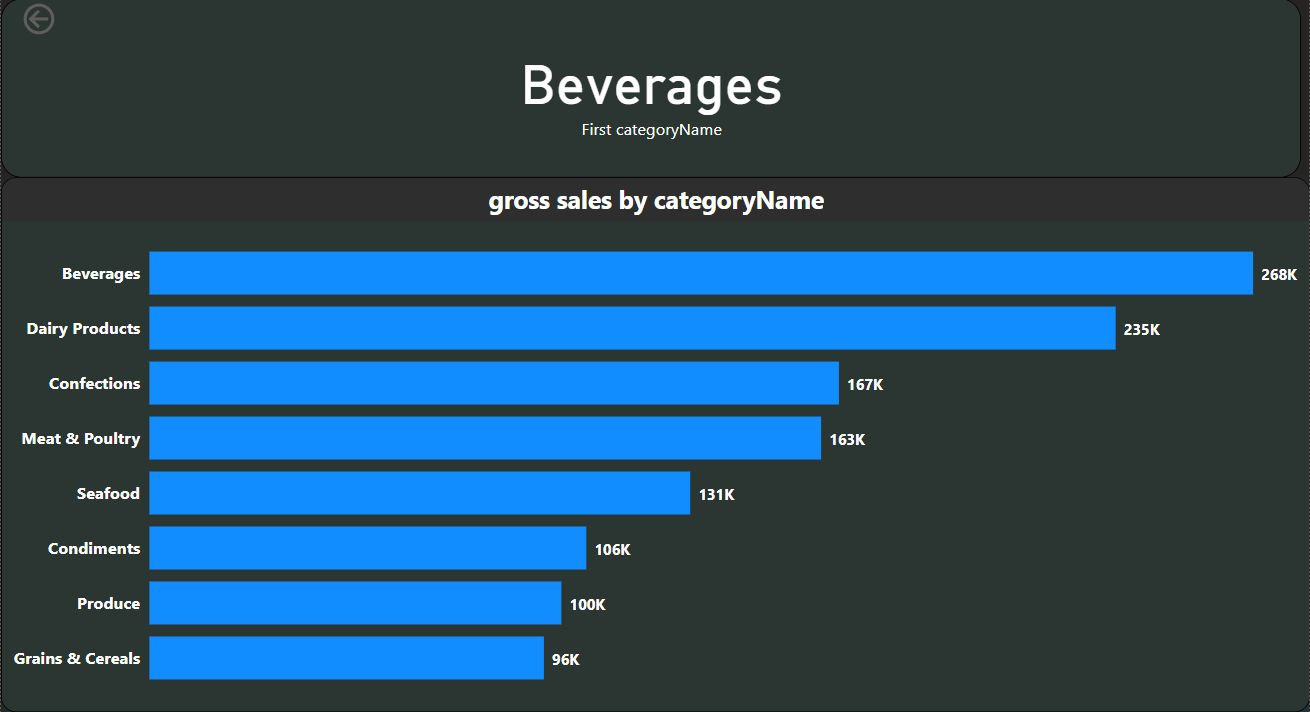

The page's visual inventory and layout, read from the dashboard file:
{"tool":"powerbi","page":{"name":"category SALES","canvas":[1280,720],"ordinal":2},"visuals":[{"type":"clusteredBarChart","fields":{"Category":["products.categoryName"],"Y":["DAX MEASURES.gross sales"]},"box":[0,187,1279.9,523.2],"z":0},{"type":"card","title":"aethateh","fields":{"Values":["Min(products.categoryName)"]},"box":[0,12.2,1271.3,174.8],"z":1000},{"type":"actionButton","box":[17.1,12.2,100.2,40.3],"z":2000}]}

Visuals, with their boxes on the page's 1280x720 design canvas (x1, y1, x2, y2). These are canvas units, not pixel positions in the 1310x712 screenshot, which may show the page scaled, cropped or inside an application window:
clusteredBarChart - products.categoryName x DAX MEASURES.gross sales: <box>0,187,1280,710</box>
"aethateh" card: <box>0,12,1271,187</box>
actionButton: <box>17,12,117,52</box>
